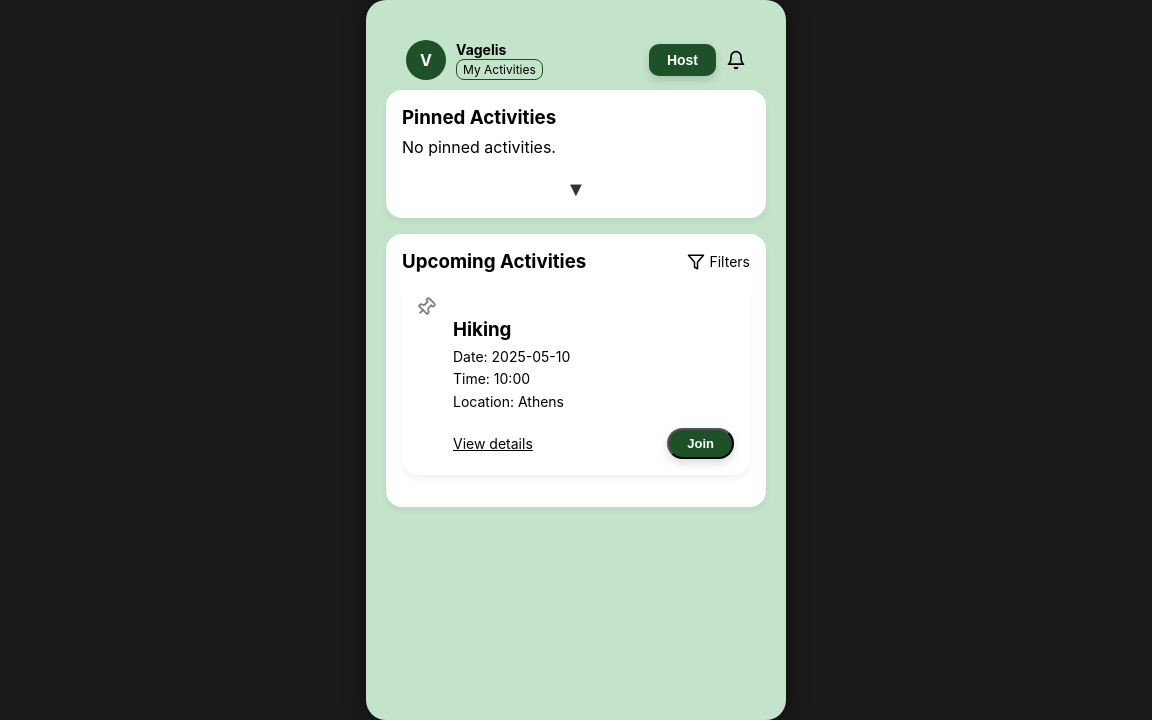
Test: Join Activity flow - Unhappy Paths › shows an error modal when max participants is reached (409 Conflict)
Note: Πατάμε το JOIN κουμπί στην κάρτα δραστηριότητας
What coordinates should you click on to do the following:
click the button "Join"
I would click on:
 (701, 444)
Its box is [667, 428, 734, 459].
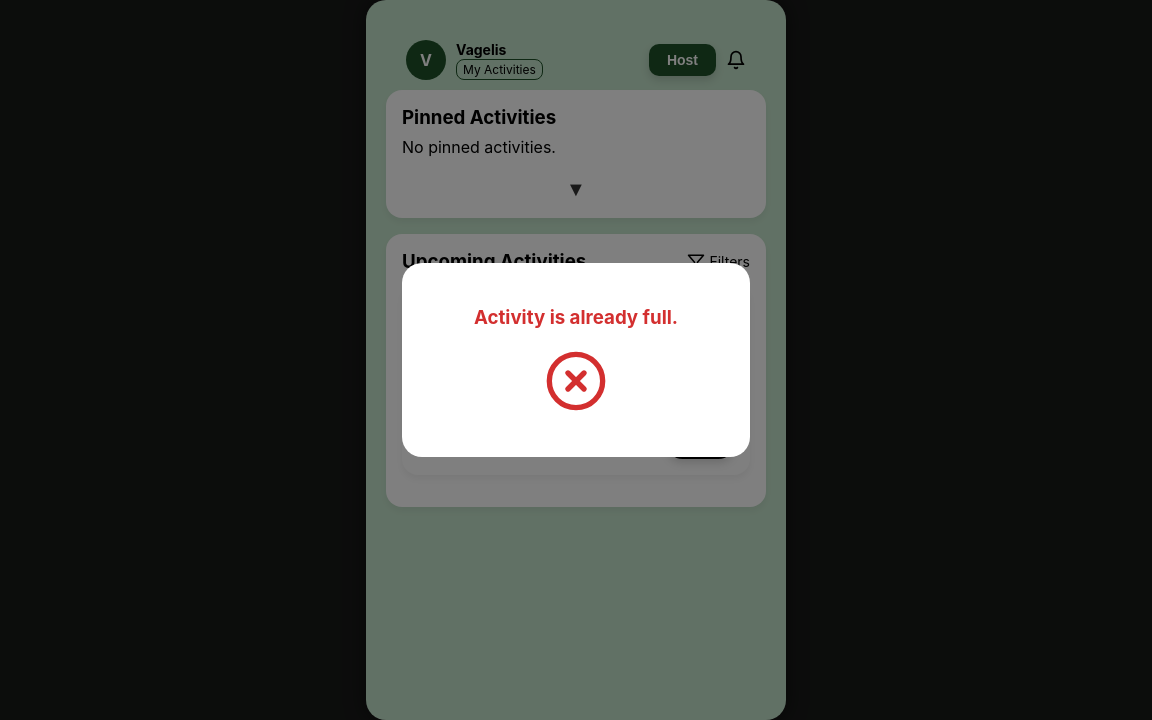
Expected: the heading "Activity is already full." is shown, [474, 306, 678, 329]
